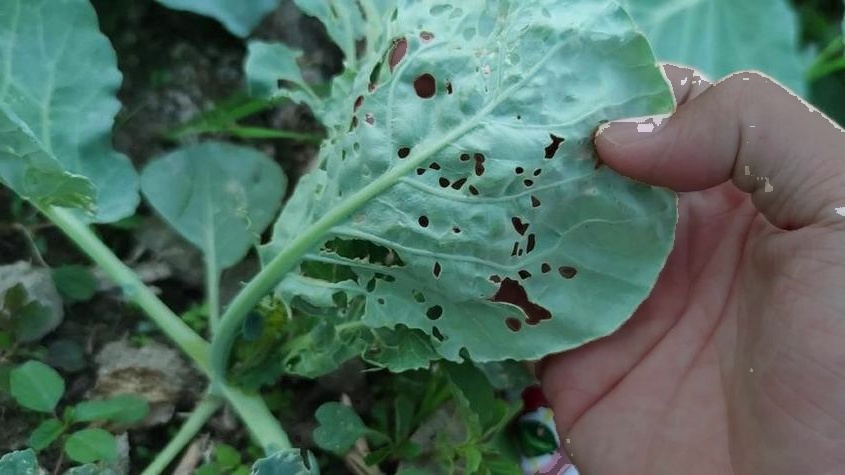Borer: (298, 120, 578, 337)
